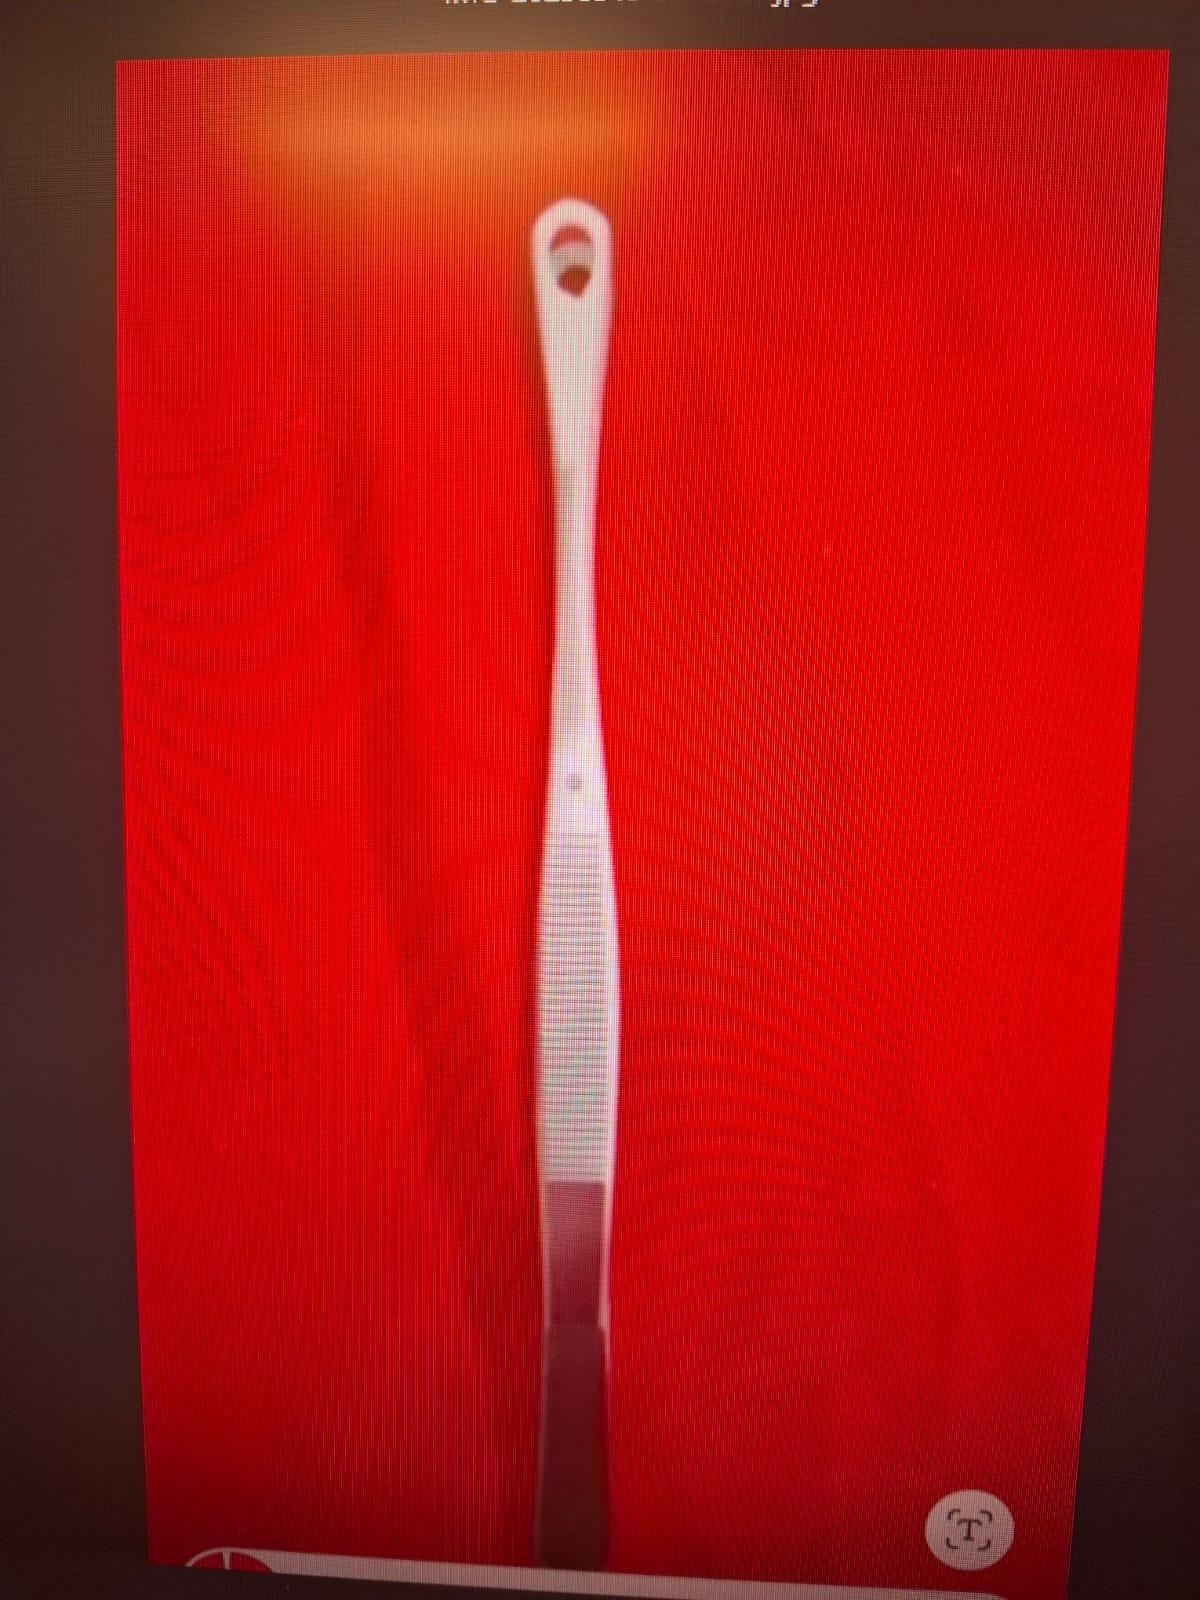Eye Intestinal Forceps: (485, 190, 668, 1575)
